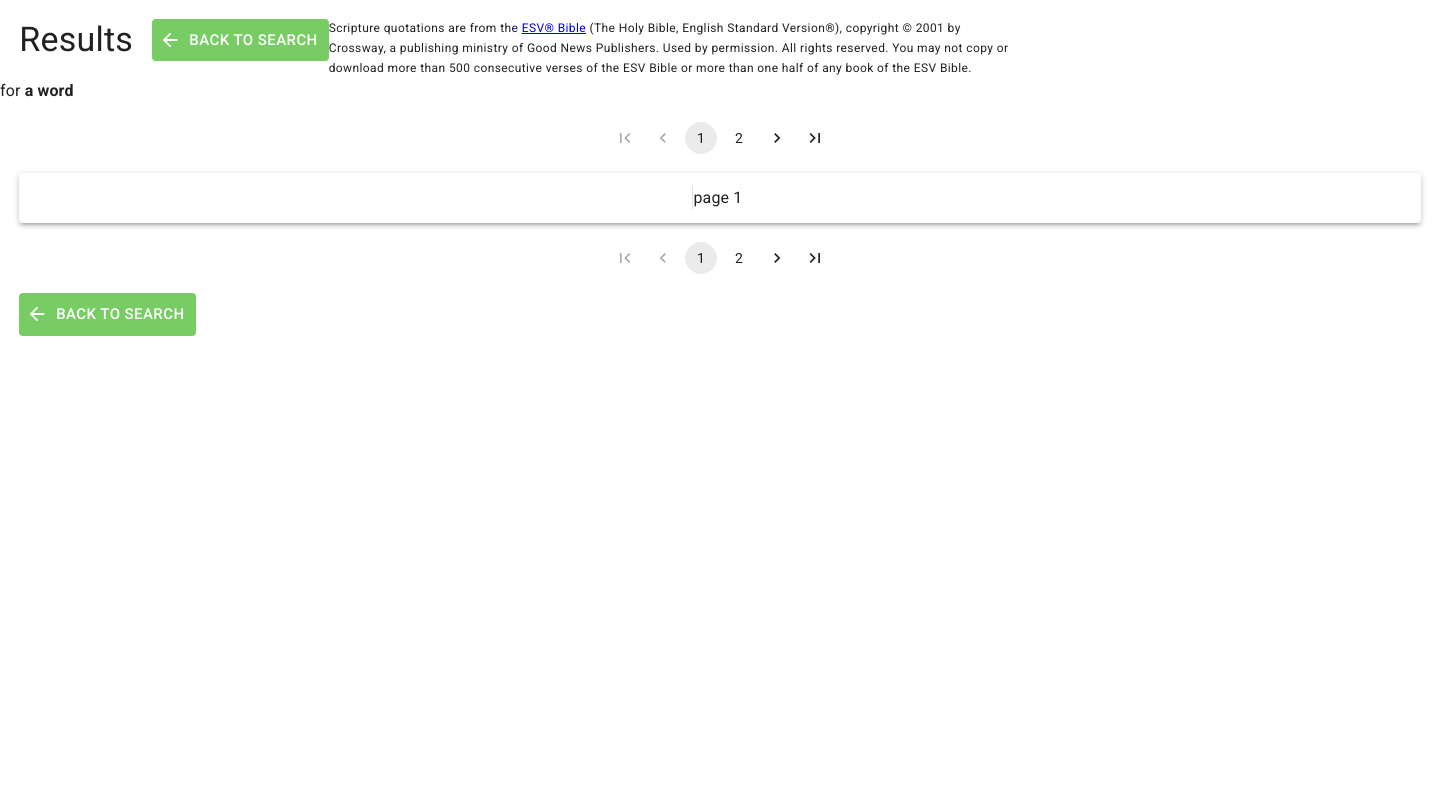
Test case: Results component › pagination › requests and displays a new page when pagination is toggled
Click the button named "Go to page 2" at (739, 138), box [723,122,755,154]
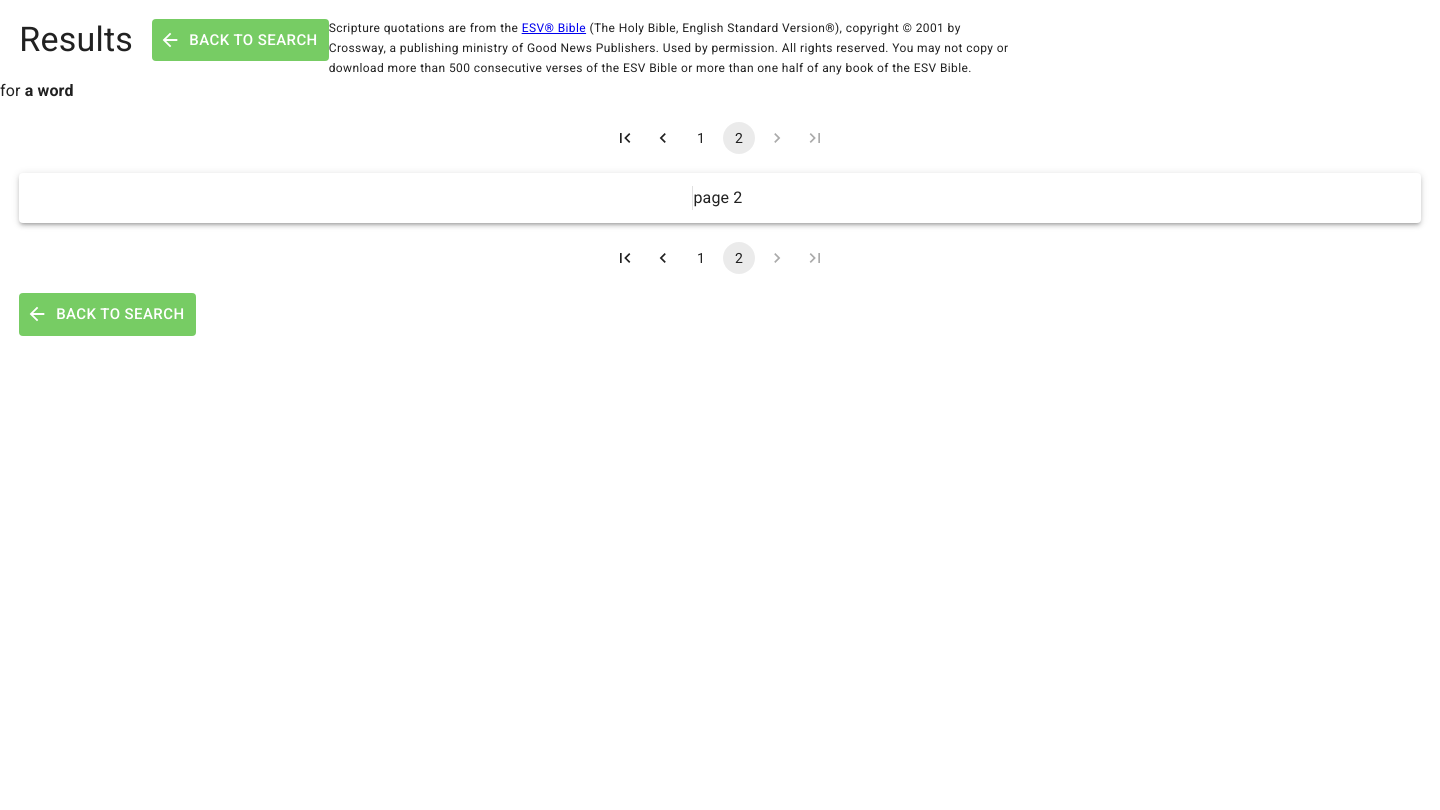
Result: the text "page 2" is shown at [694,188,742,207]
